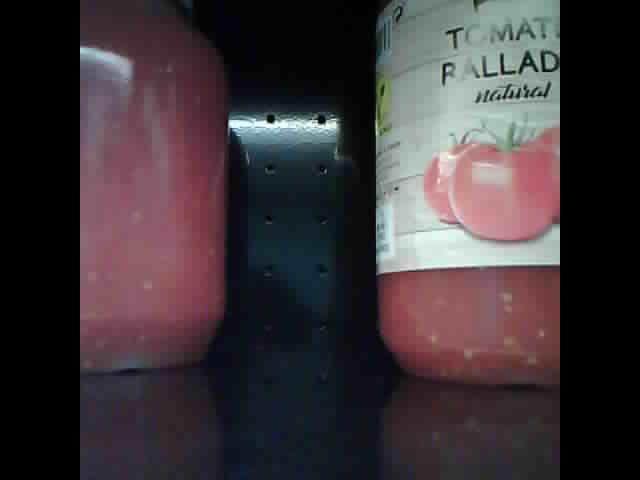tomate: (376, 4, 558, 384), (82, 3, 227, 376)
